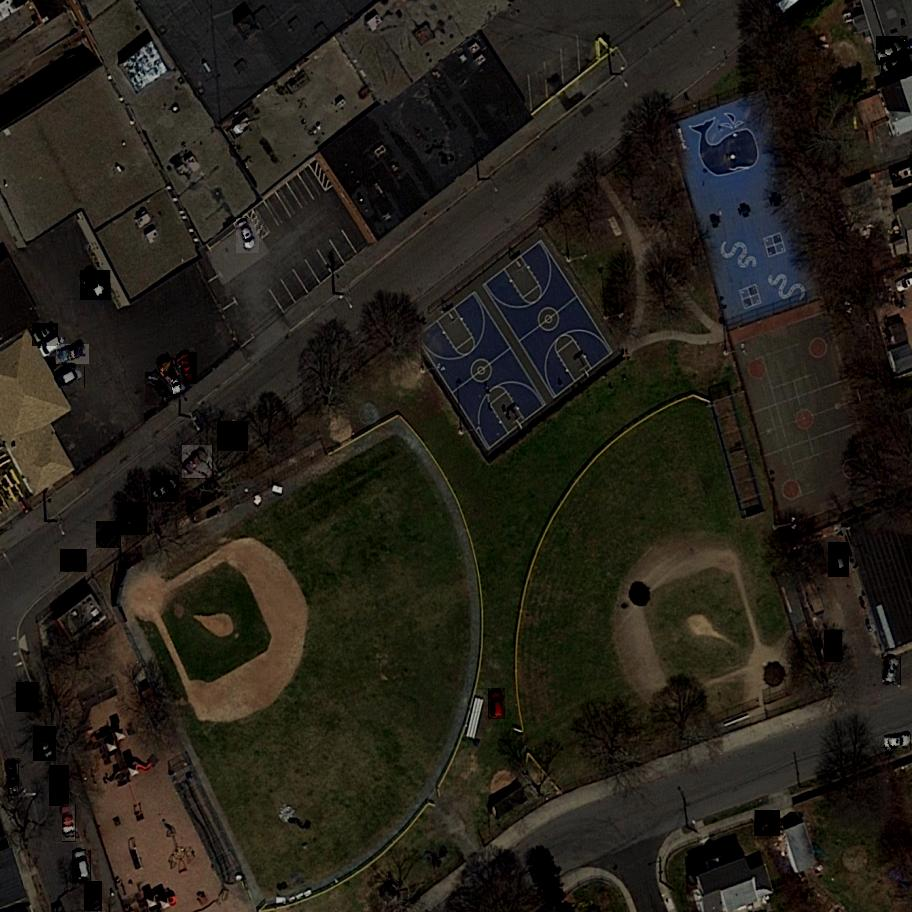small-vehicle: (181, 445, 214, 480), (117, 503, 148, 536), (144, 372, 175, 405), (217, 421, 250, 452), (876, 36, 911, 65), (159, 358, 184, 397), (80, 271, 111, 301), (149, 475, 181, 503), (33, 727, 58, 762), (48, 765, 69, 806), (236, 218, 260, 253), (828, 542, 852, 576), (16, 682, 40, 713), (55, 366, 87, 389), (96, 521, 122, 548), (755, 810, 781, 837), (57, 344, 90, 365), (824, 630, 845, 662), (60, 550, 89, 573), (31, 324, 59, 347), (72, 851, 92, 883), (179, 352, 198, 385), (882, 657, 903, 686), (62, 804, 77, 842), (881, 57, 908, 77), (489, 688, 506, 719), (5, 758, 20, 789), (885, 736, 911, 751)
